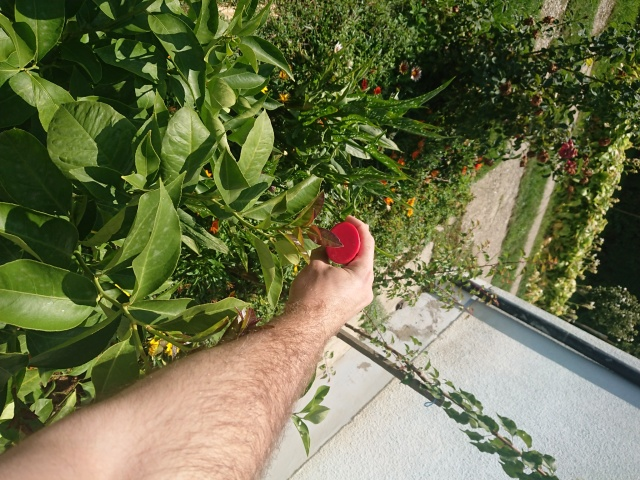Kotanyi Curry Spices Mix 70g: (324, 220, 362, 267)
